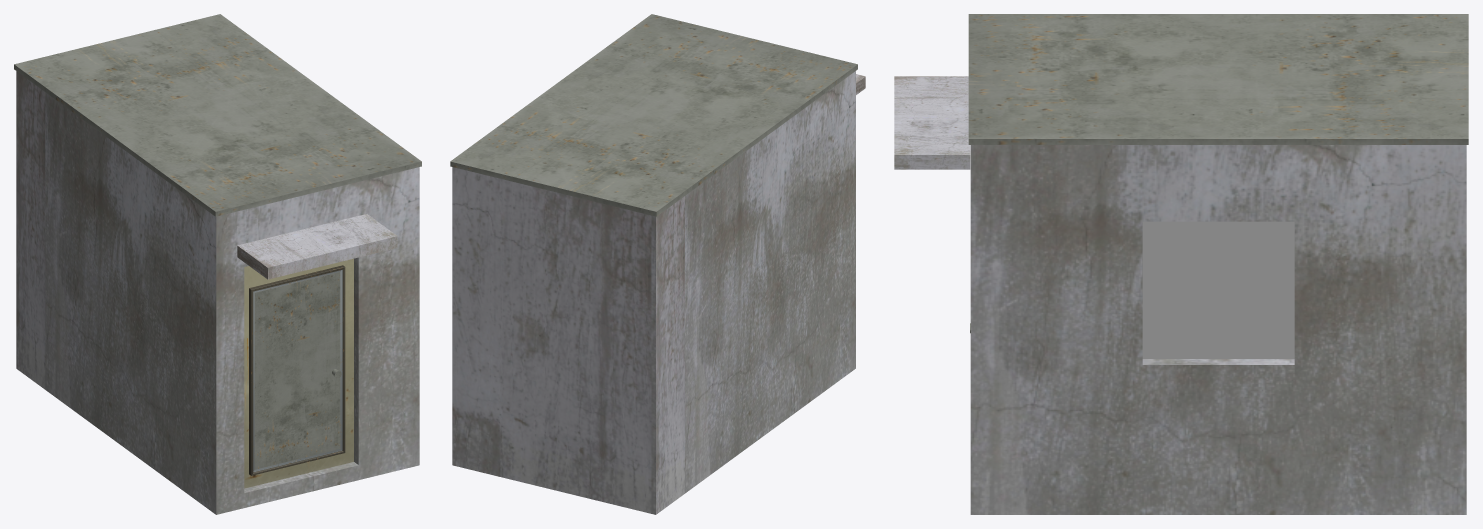
The model's file is rooftopexit_03.fbx.
The picture shows the model from 3 angles, left to right: view 1: azimuth 30°, elevation 25°; view 2: azimuth 150°, elevation 25°; view 3: azimuth 270°, elevation 25°; orthographic projection. The views are drawn at different scales.
Parts seen in each view (by area): view 1: rooftopexit_03; view 2: rooftopexit_03; view 3: rooftopexit_03.
Boxes of the visible parts, x1,y1,x2,y2 form: rooftopexit_03: [14, 14, 421, 514]; rooftopexit_03: [450, 14, 865, 514]; rooftopexit_03: [894, 14, 1468, 514].
Size of the model in its own units: 264 by 372 by 513.
